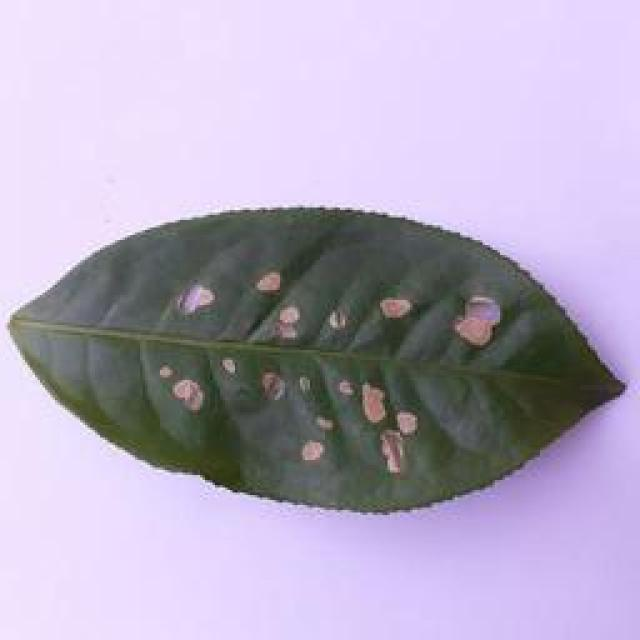Gray Blight: (5, 200, 626, 517)
